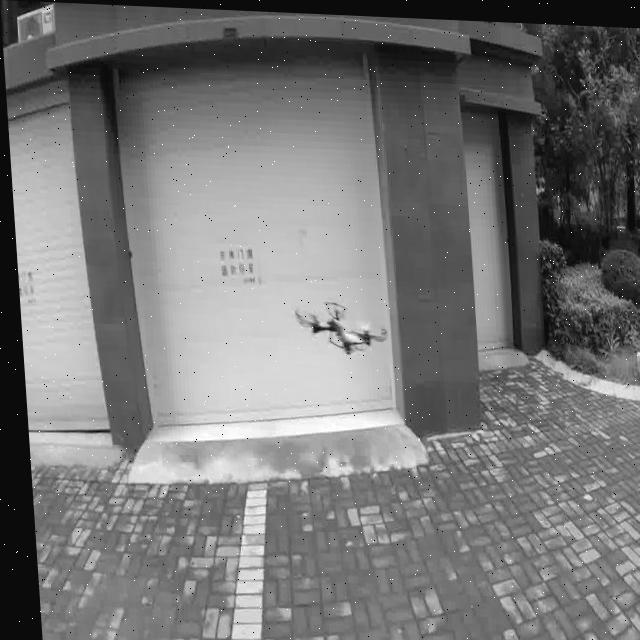drone: (287, 274, 391, 369)
